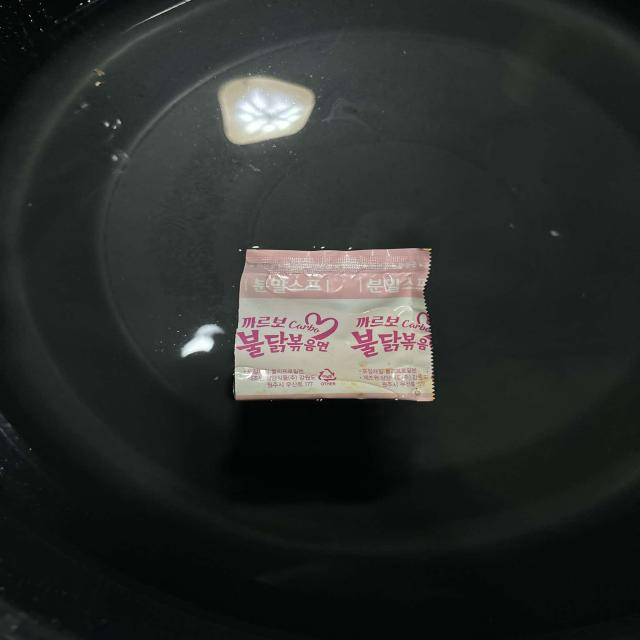Plastic Wrapper: (210, 230, 460, 416)
